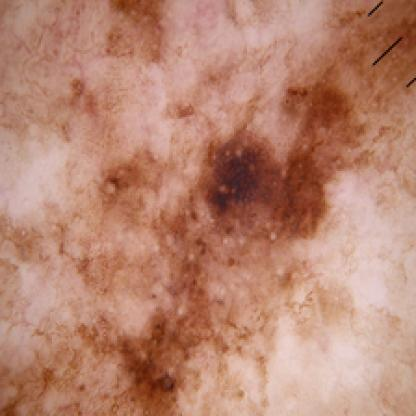Skin_Cancer-Malignant: (115, 78, 358, 416)
